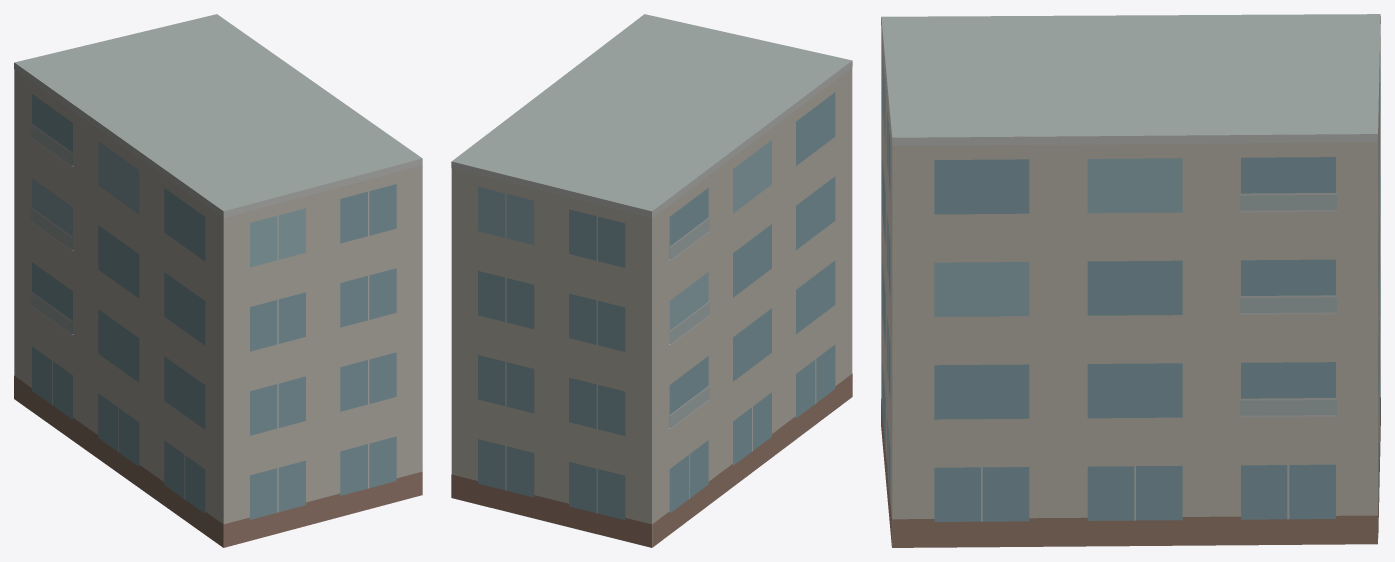
Rendered from survey-upis-32603308.glb.
3 views of the same model, side by side, from view 1: azimuth 30°, elevation 25°; view 2: azimuth 150°, elevation 25°; view 3: azimuth 270°, elevation 25° (orthographic). The views are drawn at different scales.
Visible parts, largest first — view 1: survey-upis-32603308.tmp; view 2: survey-upis-32603308.tmp; view 3: survey-upis-32603308.tmp.
Part boxes in pixels (x1=…): survey-upis-32603308.tmp: x1=14, y1=14, x2=422, y2=547; survey-upis-32603308.tmp: x1=451, y1=14, x2=852, y2=547; survey-upis-32603308.tmp: x1=881, y1=14, x2=1380, y2=547.
Size of the model in its own units: 7.92 by 12.2 by 13.47.
